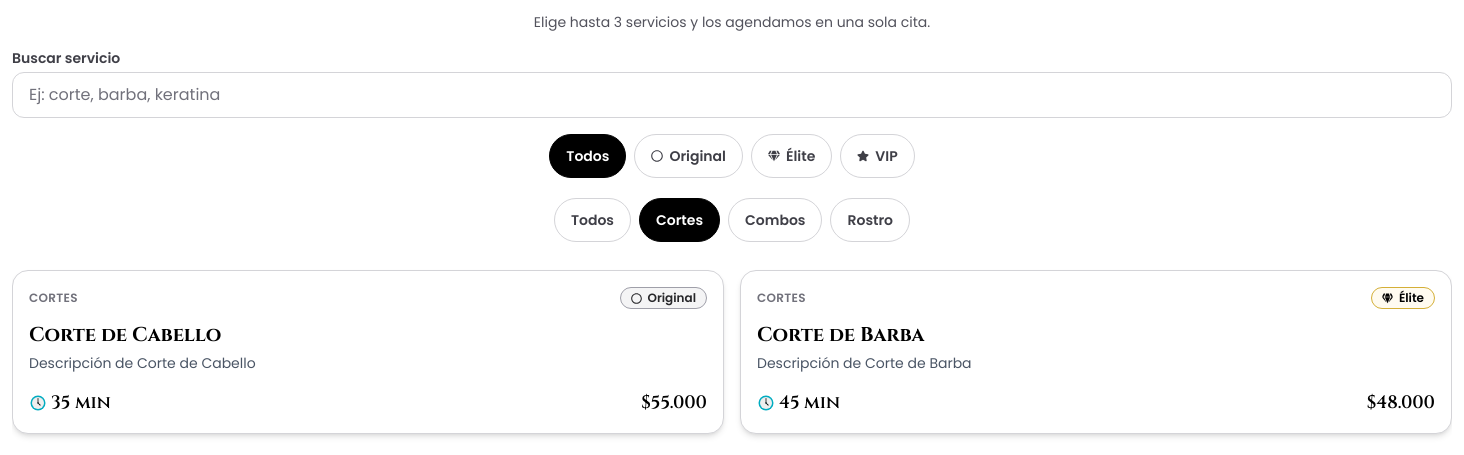
Scenario: PasoServicio — filtros, buscador y agrupación › el filtro de tipo se combina con la categoría
Click the button "Élite": x=792, y=156 x1=751 y1=134 x2=832 y2=178
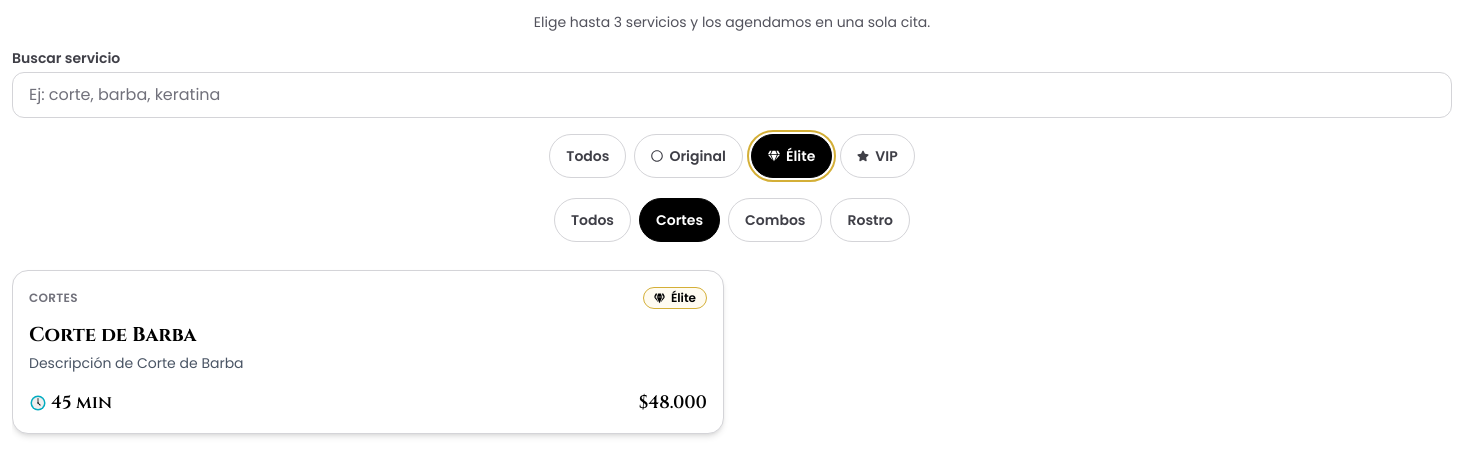
Expected: the button "Corte de Barba" is shown, x1=12 y1=270 x2=724 y2=434
Result: the button "Corte de Cabello" is gone
